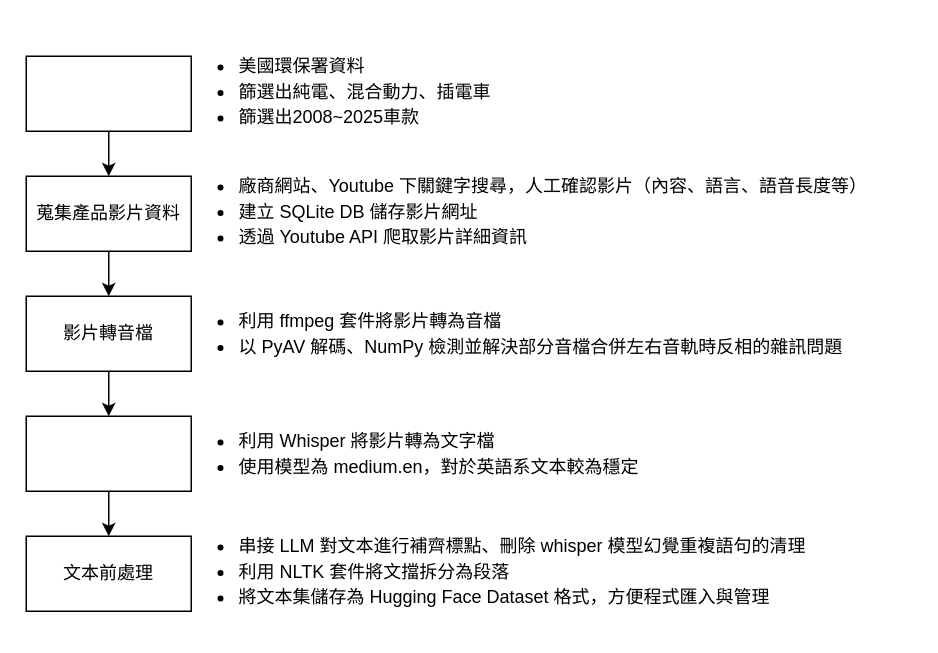
This 938x653 diagram has some shape labels left out. The centre of each missing label's shape, as x and y in pixels:
"擷取文字檔" goes at point 108,453.
"確認車款與年份" goes at point 108,93.
